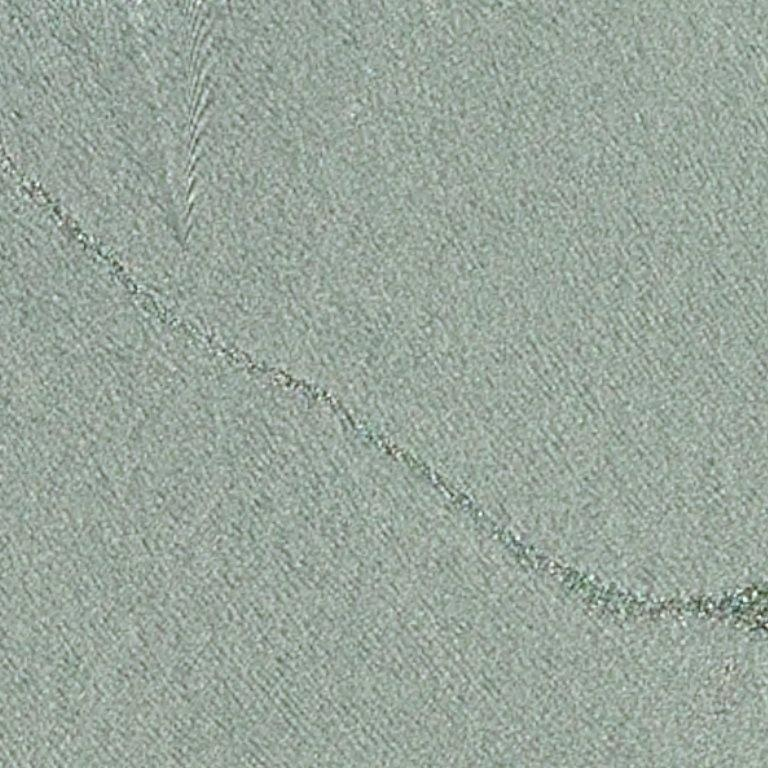ship: (184, 251, 186, 255), (184, 256, 186, 258), (159, 15, 161, 17), (34, 234, 34, 234)
